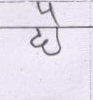ai_matra: (36, 2, 64, 26)
